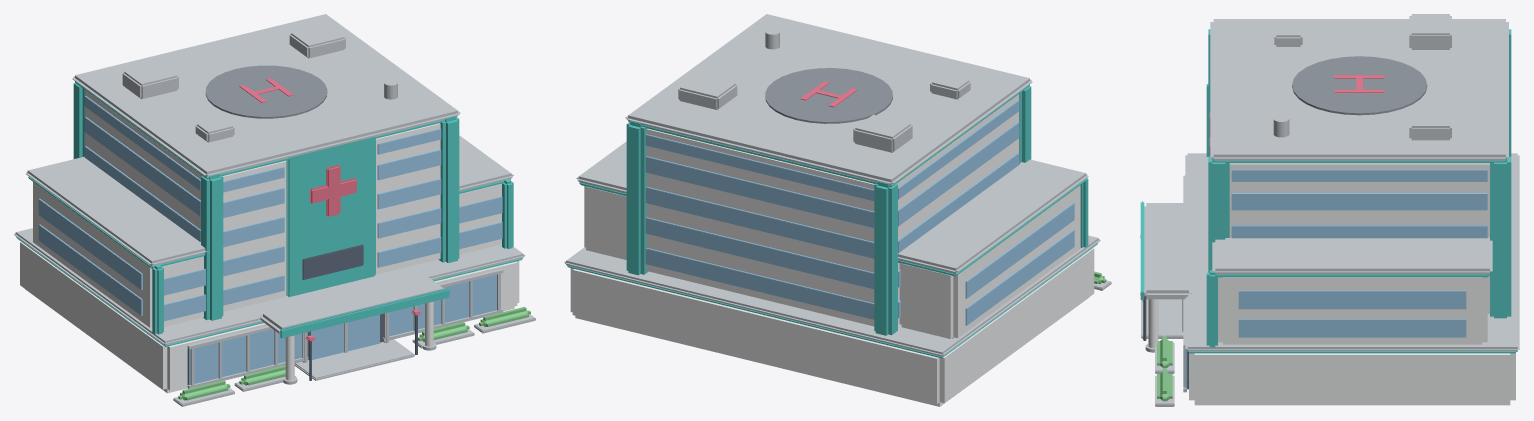
File: rumah_sakit_modern.fbx
3 views of the same model, side by side, from view 1: azimuth 30°, elevation 25°; view 2: azimuth 150°, elevation 25°; view 3: azimuth 270°, elevation 25° (orthographic). The views are drawn at different scales.
Visible parts, largest first — view 1: RsTrim, RsGlass, RsWall, RsAccent, RsRoof, RsGreen, RsDark, RsSign; view 2: RsWall, RsTrim, RsGlass, RsAccent, RsRoof; view 3: RsTrim, RsWall, RsGlass, RsAccent, RsRoof, RsGreen, RsSign.
Part boxes in pixels (x1=…): RsTrim: x1=14, y1=14, x2=535, y2=406; RsGlass: x1=38, y1=96, x2=502, y2=385; RsWall: x1=20, y1=90, x2=519, y2=393; RsAccent: x1=16, y1=81, x2=522, y2=346; RsRoof: x1=205, y1=65, x2=327, y2=118; RsGreen: x1=178, y1=307, x2=530, y2=400; RsDark: x1=187, y1=244, x2=417, y2=384; RsSign: x1=239, y1=78, x2=421, y2=341; RsWall: x1=570, y1=94, x2=1094, y2=406; RsTrim: x1=564, y1=14, x2=1111, y2=356; RsGlass: x1=645, y1=100, x2=1074, y2=325; RsAccent: x1=567, y1=84, x2=1097, y2=358; RsRoof: x1=765, y1=68, x2=892, y2=123; RsTrim: x1=1141, y1=14, x2=1519, y2=406; RsWall: x1=1148, y1=163, x2=1515, y2=405; RsGlass: x1=1185, y1=169, x2=1487, y2=388; RsAccent: x1=1140, y1=29, x2=1517, y2=353; RsRoof: x1=1292, y1=56, x2=1427, y2=115; RsGreen: x1=1157, y1=335, x2=1172, y2=401; RsSign: x1=1140, y1=75, x2=1384, y2=296.
Size of the model in its own units: 65.4 by 37.9 by 53.35.
